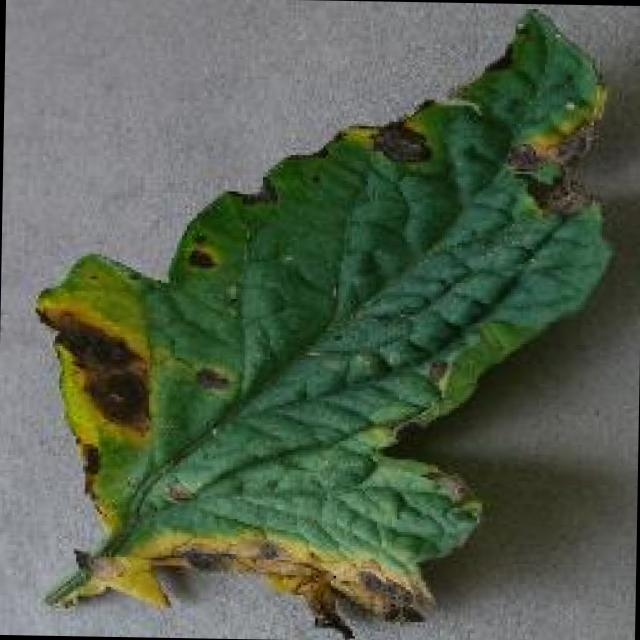Tomato_Early_Blight: (24, 25, 614, 629)
